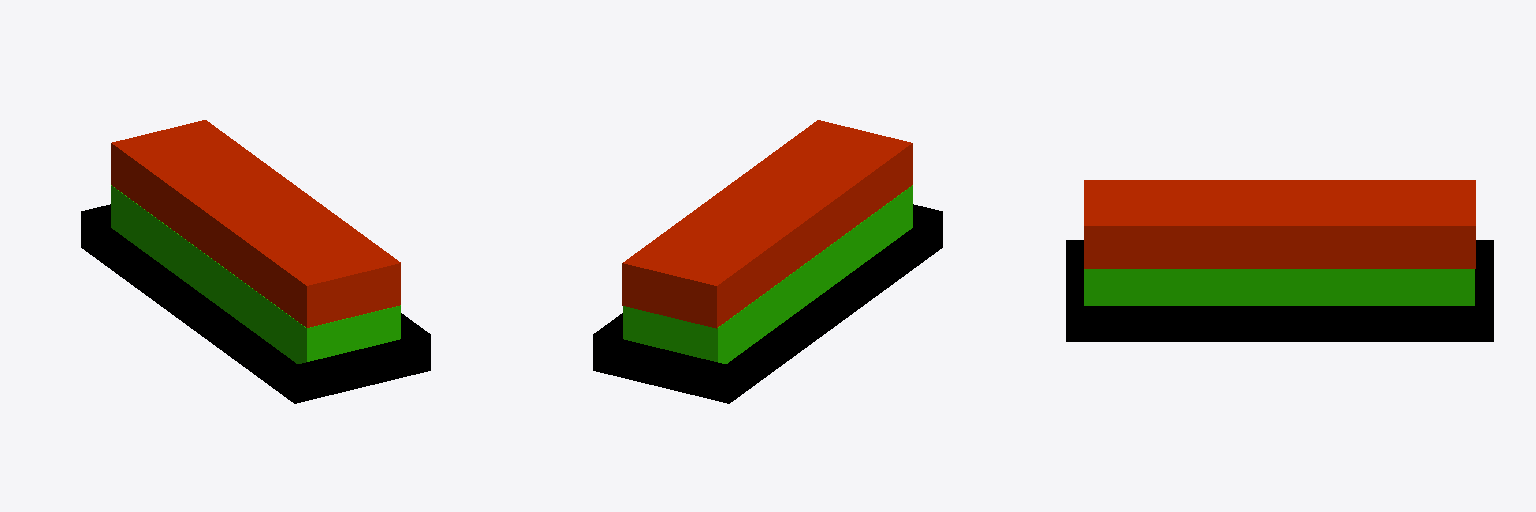
File: BROWNIES.obj
3 renders of one model, left to right at view 1: azimuth 30°, elevation 25°; view 2: azimuth 150°, elevation 25°; view 3: azimuth 270°, elevation 25°, orthographic.
Parts seen in each view (by area): view 1: Cube.002_Cube.010, Cube, Cube.001_Cube.005; view 2: Cube.002_Cube.010, Cube, Cube.001_Cube.005; view 3: Cube.002_Cube.010, Cube, Cube.001_Cube.005.
Part boxes in pixels (x1,y1,x2,y2): Cube.002_Cube.010: (111,120,400,327); Cube: (81,204,430,403); Cube.001_Cube.005: (111,185,400,363); Cube.002_Cube.010: (622,120,912,328); Cube: (593,204,942,403); Cube.001_Cube.005: (623,185,912,363); Cube.002_Cube.010: (1084,180,1475,268); Cube: (1066,240,1493,341); Cube.001_Cube.005: (1084,269,1474,305).
Size of the model in its own units: 0.7565 by 0.5599 by 2.05.